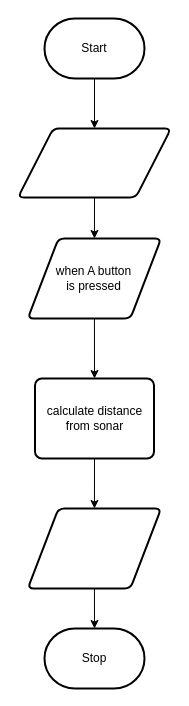
Some shapes in this 189 by 706 pixel diagram are drawn without their labels. The centre of each missing label's shape, as x and y in pixels:
"display objectDistance" belongs at point 94,548.
"objectDistance = sonar.ping()" belongs at point 94,162.
